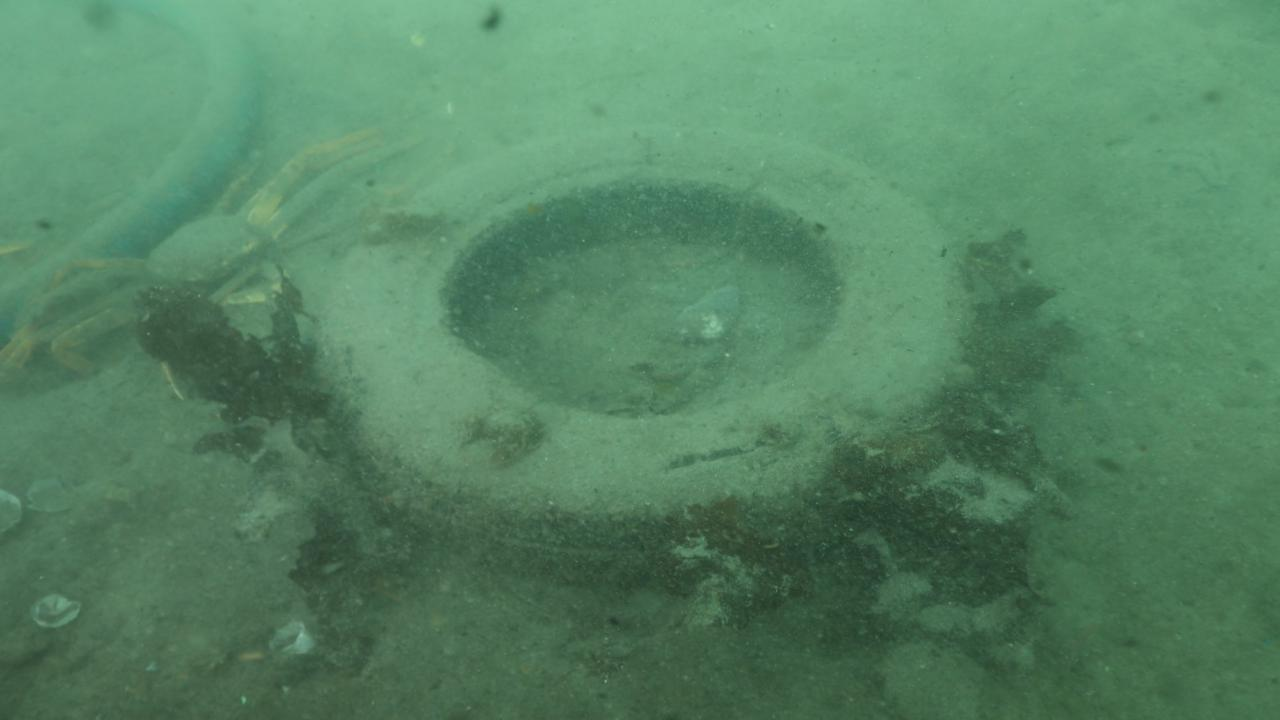tire: (319, 125, 971, 585)
